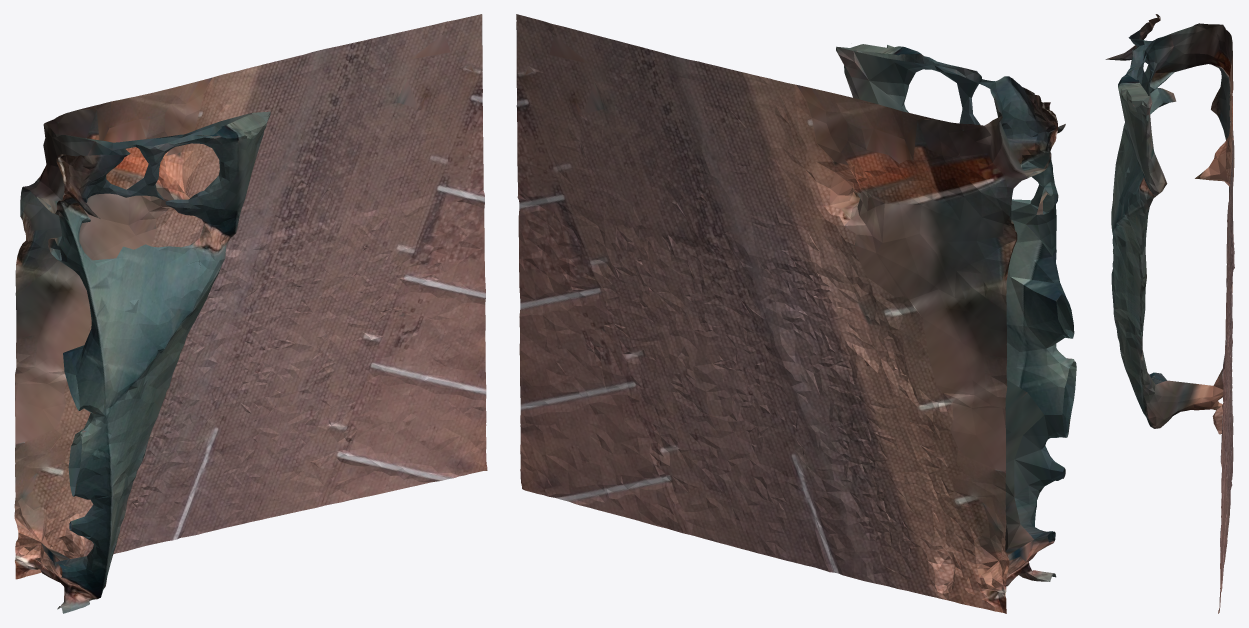
File: tile_6_13.obj
3 views of the same model, side by side, from view 1: azimuth 30°, elevation 25°; view 2: azimuth 150°, elevation 25°; view 3: azimuth 270°, elevation 25° (orthographic). The views are drawn at different scales.
Visible parts, largest first — view 1: texture_0; view 2: texture_0; view 3: texture_0.
Boxes of the visible parts, x1,y1,x2,y2 form: texture_0: (14, 14, 487, 613); texture_0: (516, 14, 1076, 613); texture_0: (1105, 14, 1234, 613).
Bounding box in the file's own units: 13.88 × 12.92 × 3.8.
1 material, 1 textured.
